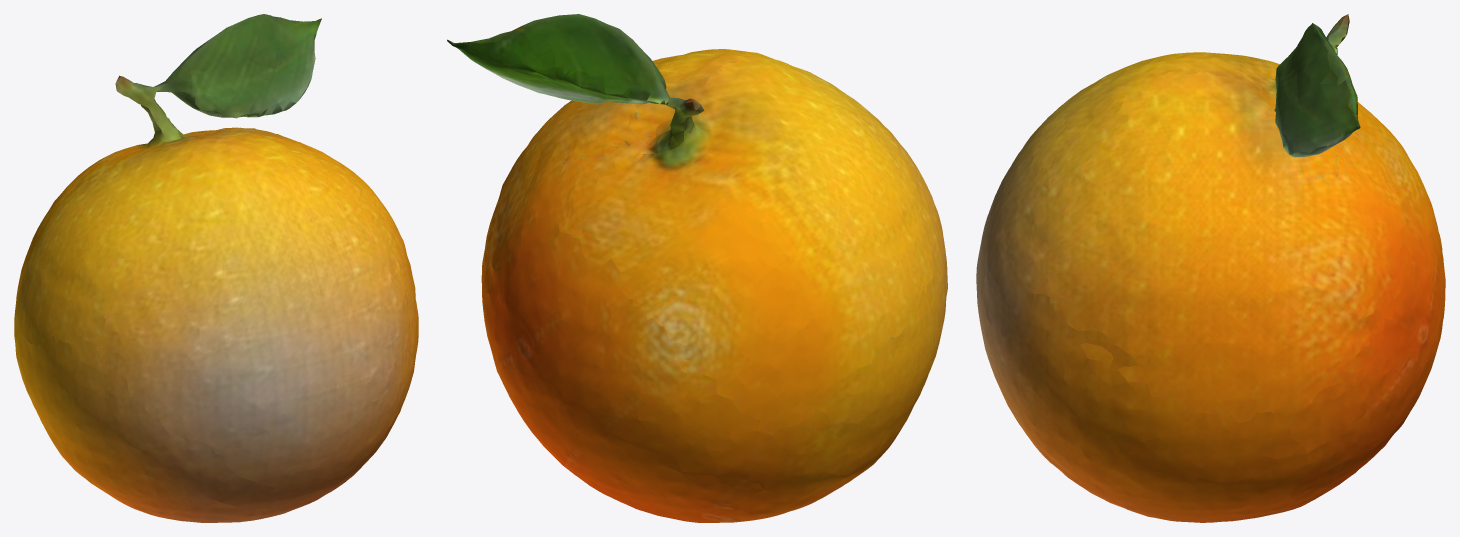
Rendered from orange1.fbx.
3 renders of one model, left to right at view 1: azimuth 30°, elevation 25°; view 2: azimuth 150°, elevation 25°; view 3: azimuth 270°, elevation 25°, orthographic. The views are drawn at different scales.
Parts seen in each view (by area): view 1: world; view 2: world; view 3: world.
Part boxes in pixels (left/top/right/bottom): world: left=14, top=14, right=418, bottom=522; world: left=447, top=14, right=947, bottom=522; world: left=976, top=14, right=1445, bottom=522.
Bounding box in the file's own units: 66.68 × 79.3 × 66.77.
Materials: 1 (1 with a texture image).
